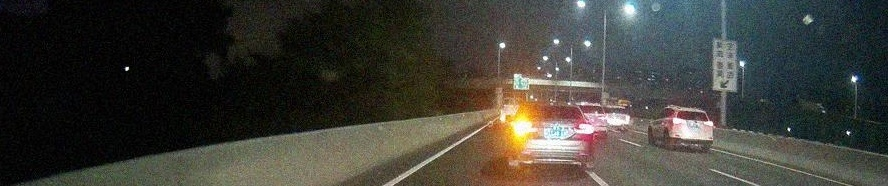L_light: (511, 120, 537, 134), (672, 118, 682, 124)
R_light: (573, 123, 594, 134), (704, 120, 713, 127)
T_light: (547, 105, 560, 109), (687, 110, 696, 113)
night-left: (507, 102, 595, 174)
night-no: (668, 107, 714, 152)
